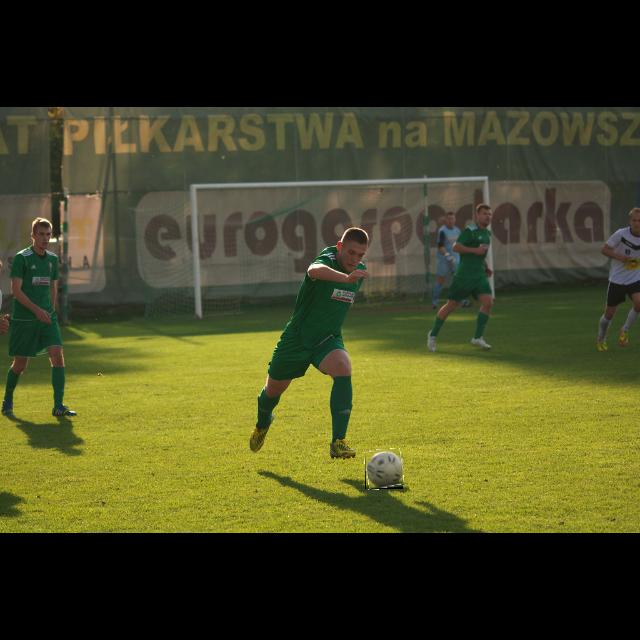Football: (365, 449, 403, 489)
